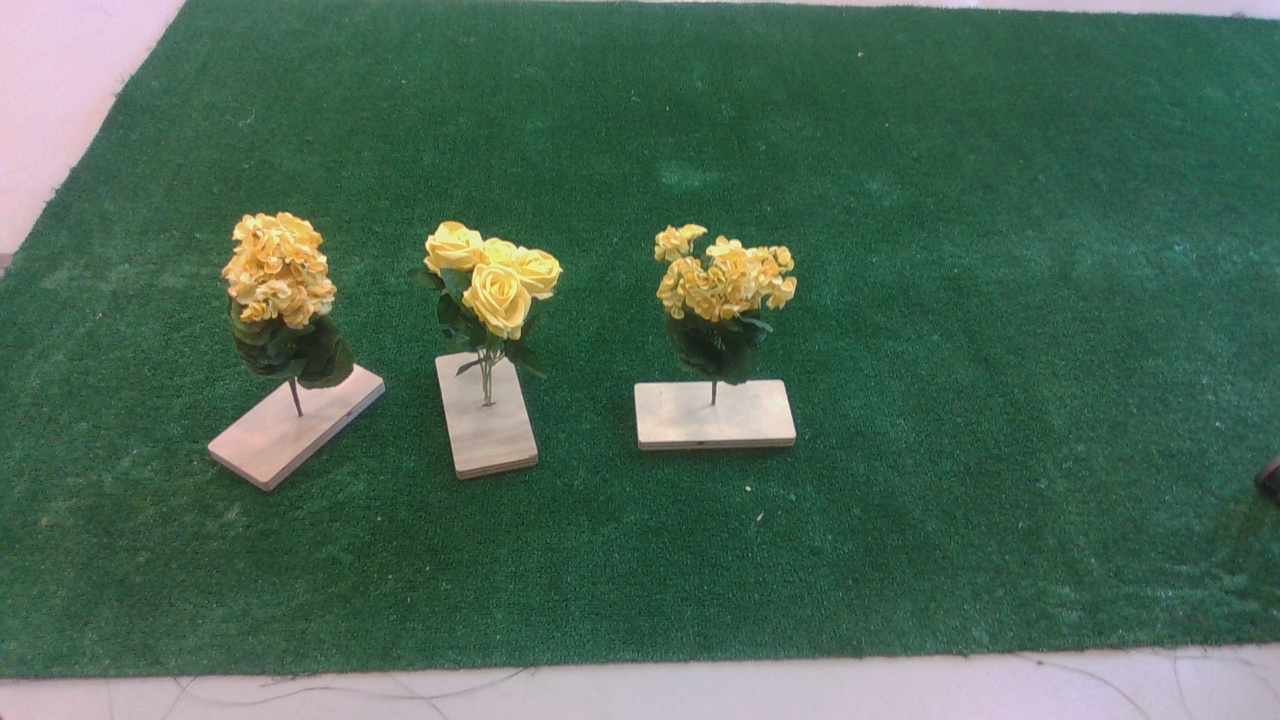geranium: (626, 215, 811, 374), (205, 206, 377, 376)
rose: (403, 209, 587, 365)
